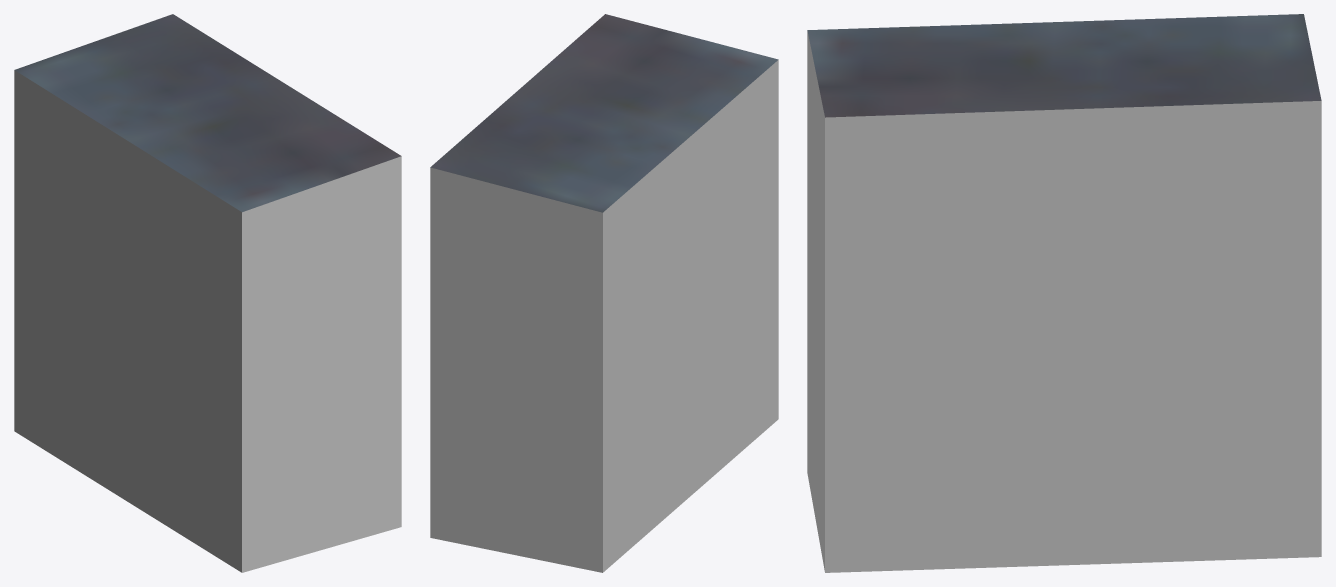
Rendered from DEBW_0010007THYq.gltf.
3 views of the same model, side by side, from view 1: azimuth 30°, elevation 25°; view 2: azimuth 150°, elevation 25°; view 3: azimuth 270°, elevation 25° (orthographic). The views are drawn at different scales.
Parts seen in each view (by area): view 1: Z_UP; view 2: Z_UP; view 3: Z_UP.
Part boxes in pixels (x1,y1,x2,y2): Z_UP: (14,14,401,572); Z_UP: (430,14,778,572); Z_UP: (807,14,1321,572).
Bounding box in the file's own units: 2.32 × 4.28 × 4.37.
2 materials, 1 textured.
